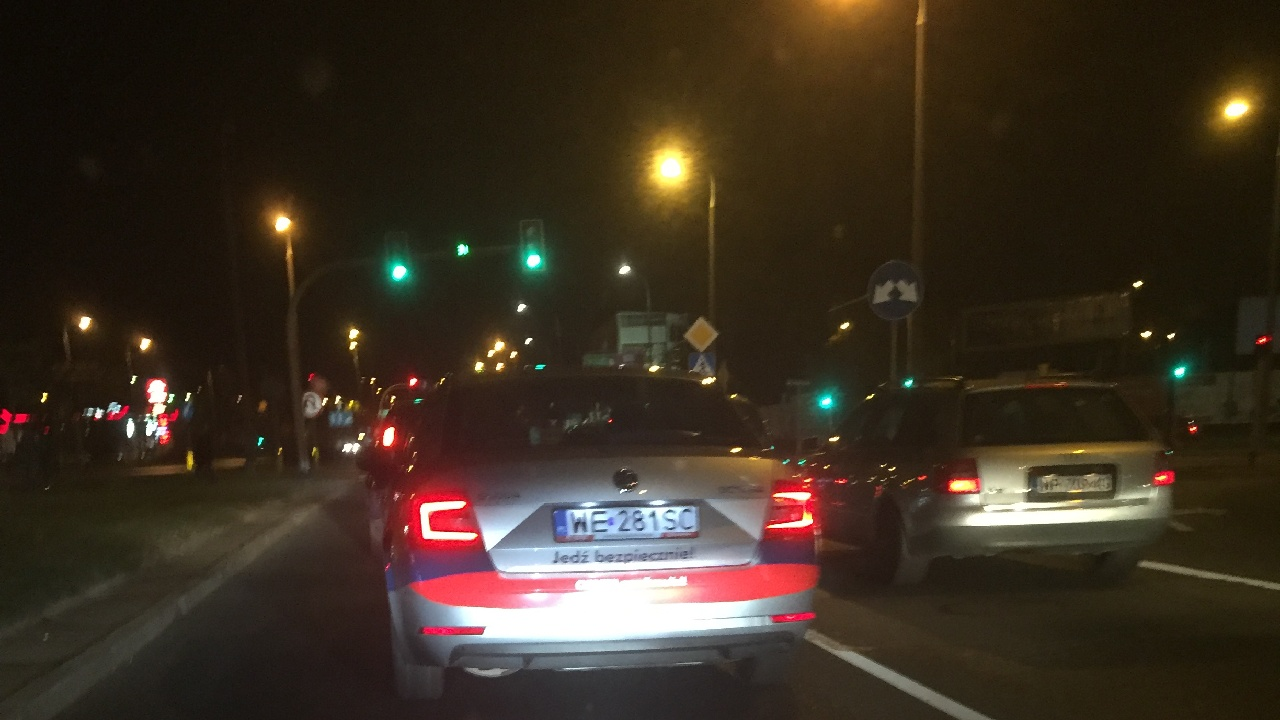D1: (681, 314, 720, 353)
D6: (679, 350, 726, 387)
